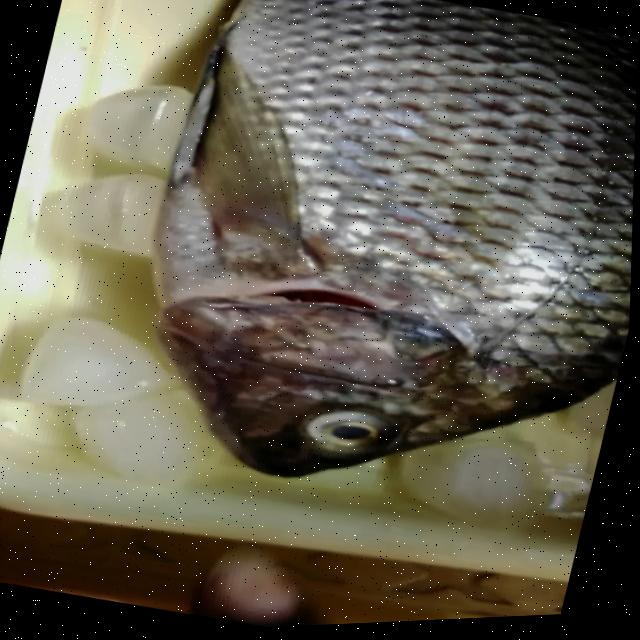Fresh: (129, 0, 640, 434), (290, 379, 441, 474)
